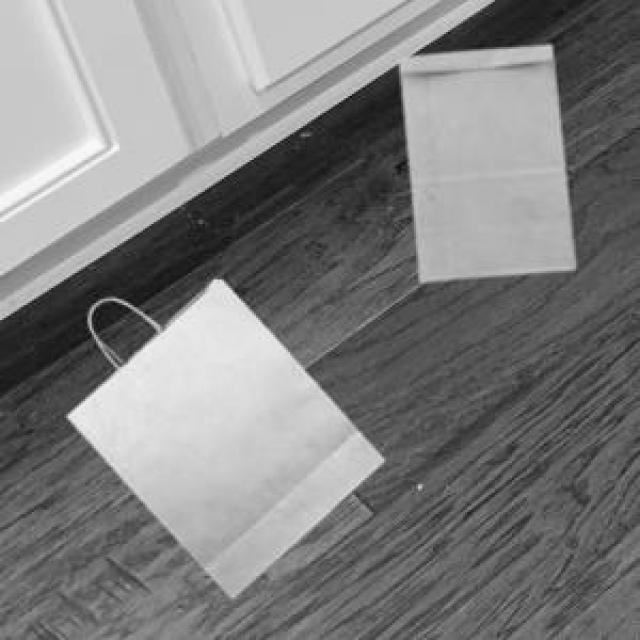paper: (64, 275, 380, 593), (397, 41, 572, 277)
